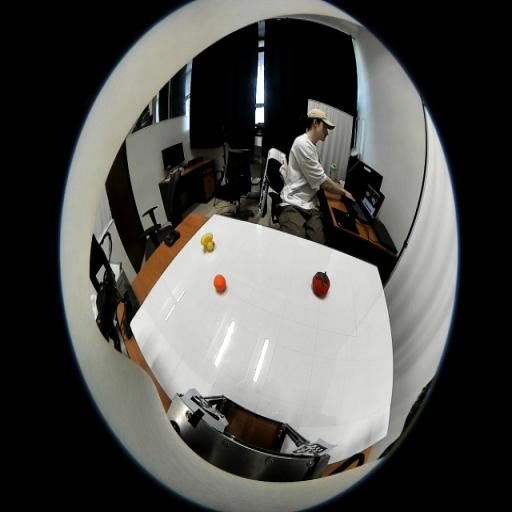Duck: (200, 232, 215, 251)
Orange: (213, 274, 226, 292)
Tomato: (312, 272, 330, 297)
